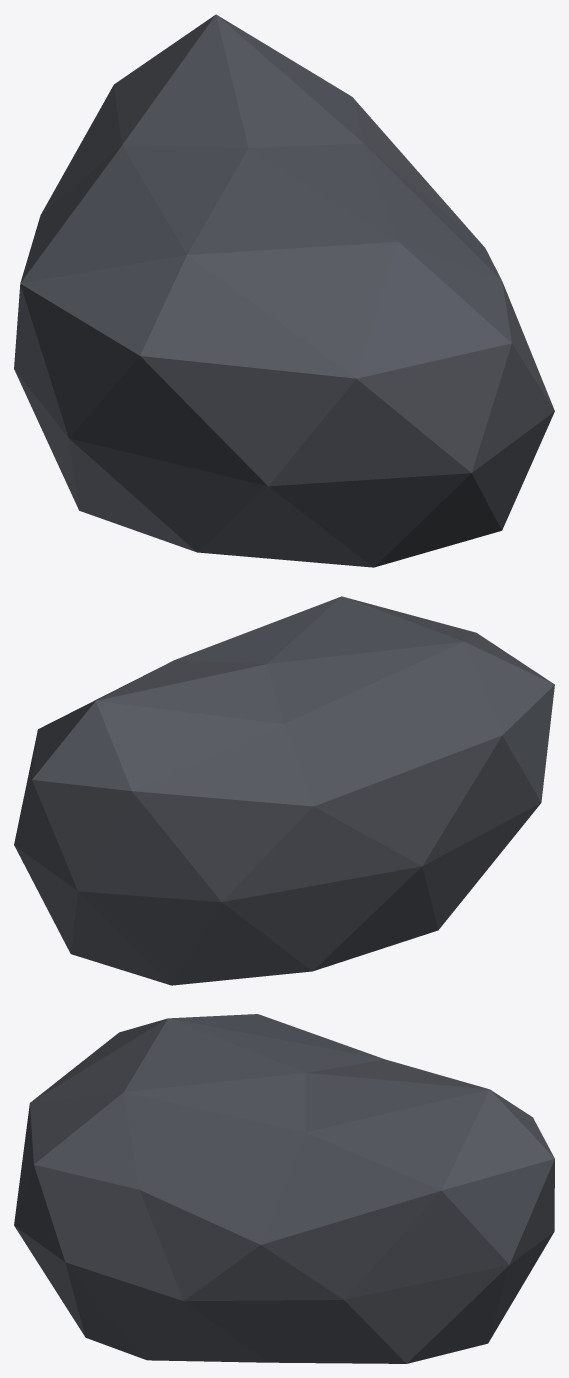
File: Stone_05.fbx
3 views of the same model, one above another, from view 1: azimuth 30°, elevation 25°; view 2: azimuth 150°, elevation 25°; view 3: azimuth 270°, elevation 25° (orthographic). The views are drawn at different scales.
Parts seen in each view (by area): view 1: Stone_05; view 2: Stone_05; view 3: Stone_05.
Part boxes in pixels (x1=…): Stone_05: x1=14, y1=14, x2=554, y2=567; Stone_05: x1=14, y1=596, x2=554, y2=985; Stone_05: x1=14, y1=1014, x2=554, y2=1363.
Bounding box in the file's own units: 14.04 × 9.53 × 18.73.
